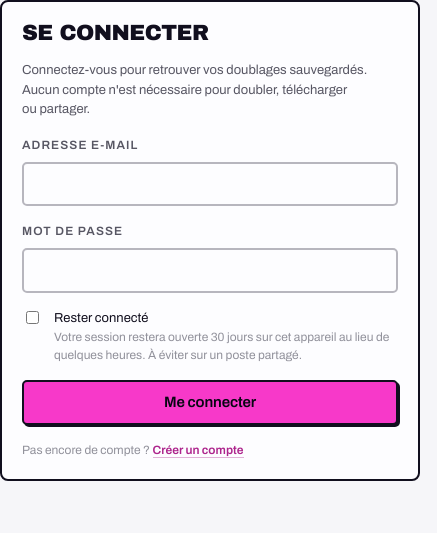
Test: LoginForm › affiche un message générique sur 401 (sans désigner le champ fautif)
Step 1. Type "alice@example.com" into the field labelled "Adresse e-mail" → (210, 184), box [36,164,384,204]
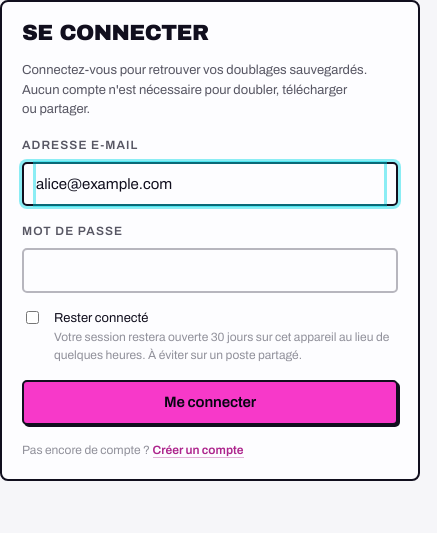
Step 2. Type "Corr3ct-horse-battery" into the password field labelled "Mot de passe" → (210, 270), box [22,248,398,293]
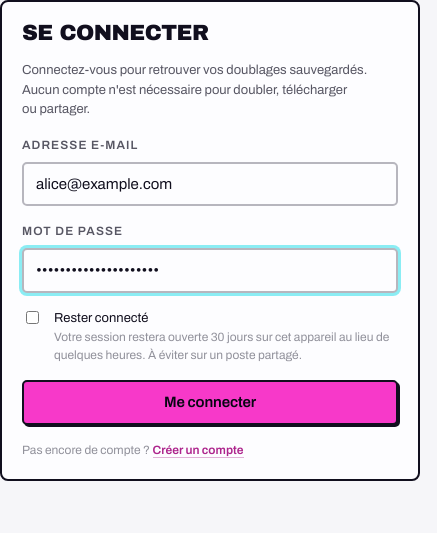
Step 3. Click the button "Me connecter" → click(210, 402), box [22,380,398,425]
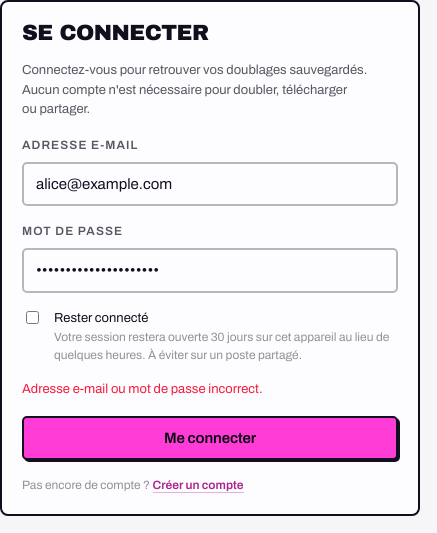
Check: the message shows "incorrect", box [22,382,262,396]
